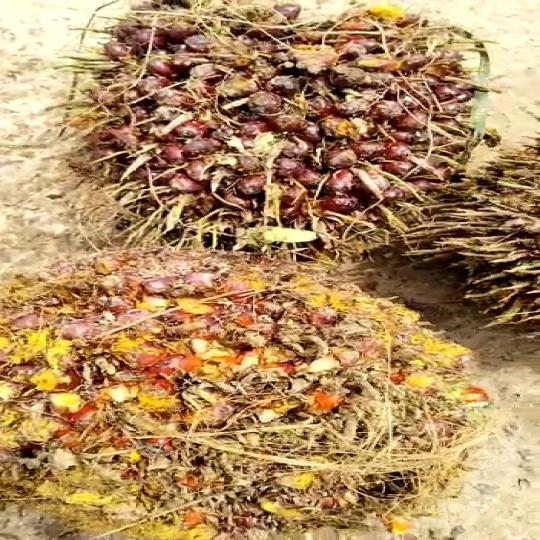masak: (0, 260, 511, 540), (50, 0, 491, 265)
